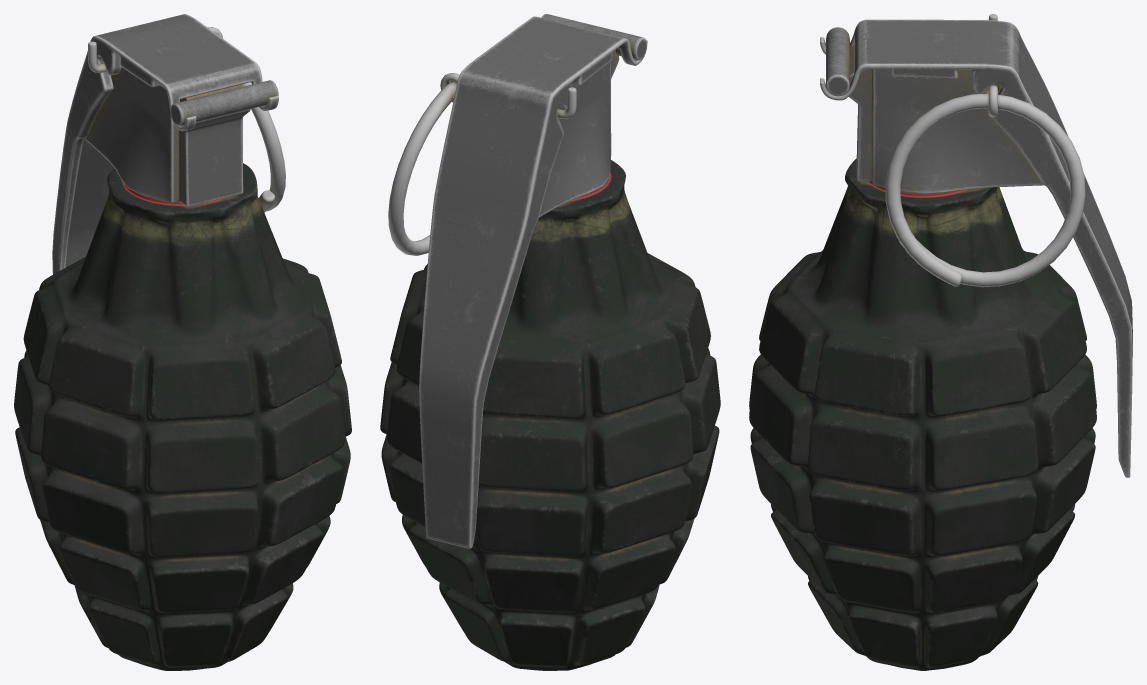
Rendered from hand_granade.glb.
The picture shows the model from 3 angles, left to right: view 1: azimuth 30°, elevation 25°; view 2: azimuth 150°, elevation 25°; view 3: azimuth 270°, elevation 25°; orthographic projection.
Parts seen in each view (by area): view 1: hand_granade_mesh; view 2: hand_granade_mesh; view 3: hand_granade_mesh.
Part boxes in pixels (x1=…): hand_granade_mesh: x1=14, y1=14, x2=351, y2=670; hand_granade_mesh: x1=380, y1=14, x2=720, y2=670; hand_granade_mesh: x1=749, y1=14, x2=1132, y2=670.
Size of the model in its own units: 0.0516 by 0.1 by 0.057.
3 materials, 3 textured.
